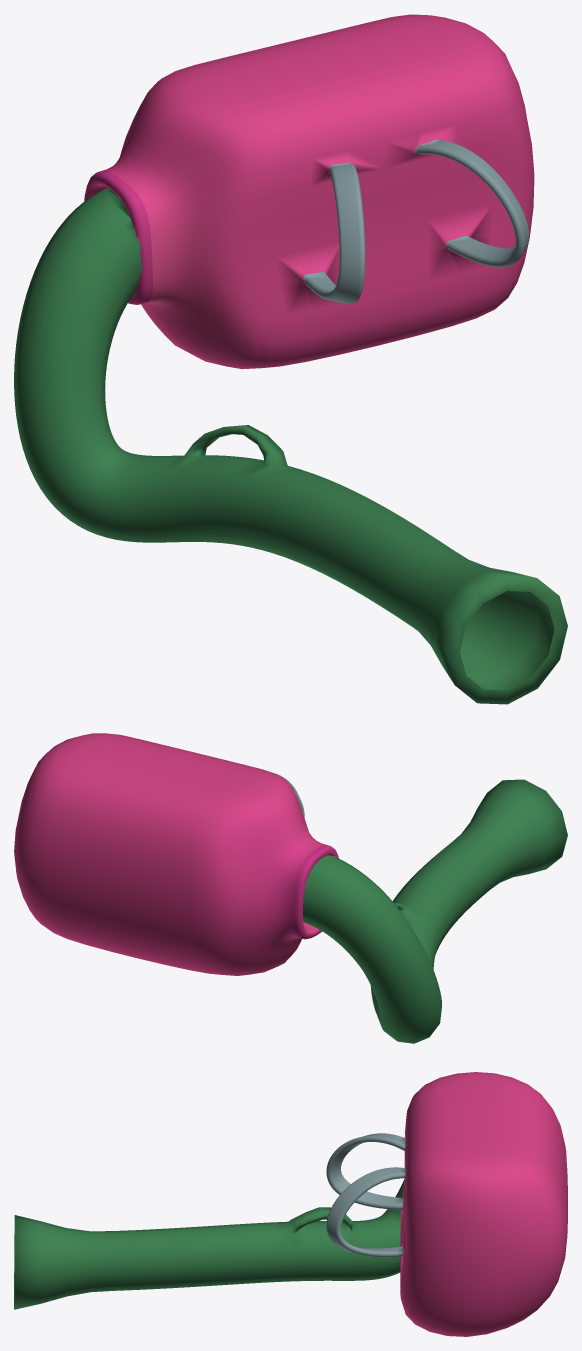
Rendered from stickman_backpack.fbx.
3 views of the same model, one above another, from view 1: azimuth 30°, elevation 25°; view 2: azimuth 150°, elevation 25°; view 3: azimuth 270°, elevation 25° (orthographic). The views are drawn at different scales.
Visible parts, largest first — view 1: Stickman_backpack; view 2: Stickman_backpack; view 3: Stickman_backpack.
Boxes of the visible parts, <box> form: Stickman_backpack: <box>14,14,567,704</box>; Stickman_backpack: <box>14,733,567,1043</box>; Stickman_backpack: <box>14,1072,567,1336</box>.
Bounding box in the file's own units: 137 × 90.07 × 185.
1 material, 1 textured.
